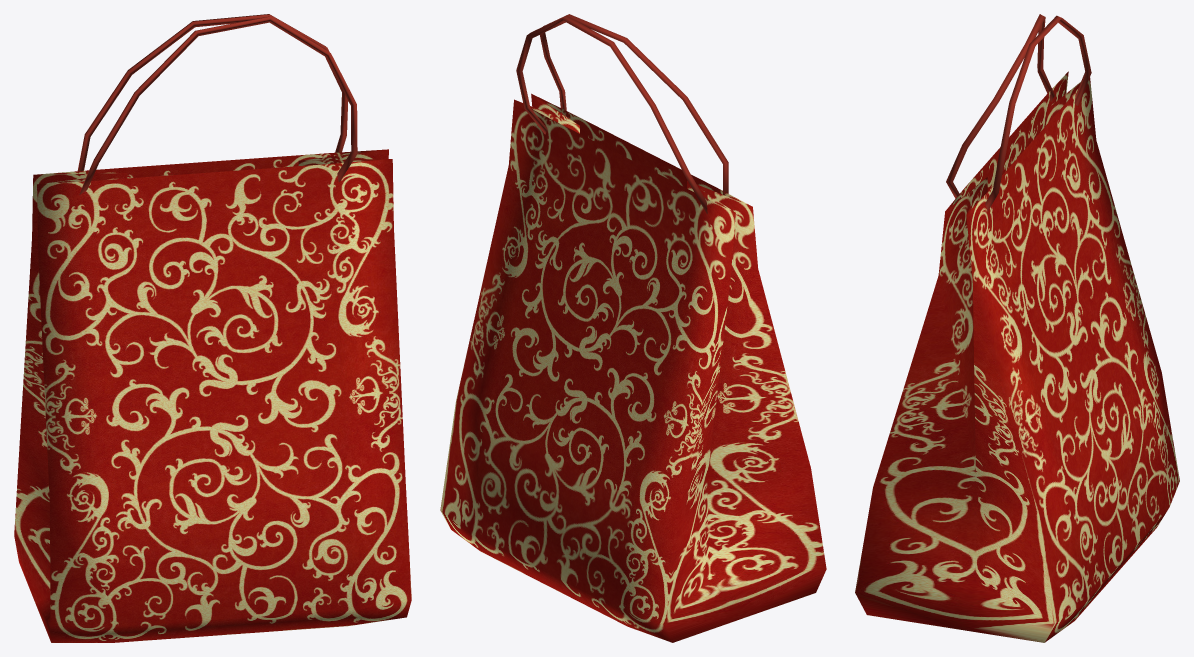
Rendered from Liqin.glb.
The picture shows the model from 3 angles, left to right: view 1: azimuth 30°, elevation 25°; view 2: azimuth 150°, elevation 25°; view 3: azimuth 270°, elevation 25°; orthographic projection. The views are drawn at different scales.
Parts seen in each view (by area): view 1: doutou.001; view 2: doutou.001; view 3: doutou.001.
Part boxes in pixels (box(x1,y1,x2,y2)): doutou.001: box(14, 14, 411, 642); doutou.001: box(440, 14, 826, 642); doutou.001: box(855, 14, 1179, 642).
Bounding box in the file's own units: 0.2784 × 0.4068 × 0.2196.
Materials: 2 (1 with a texture image).
